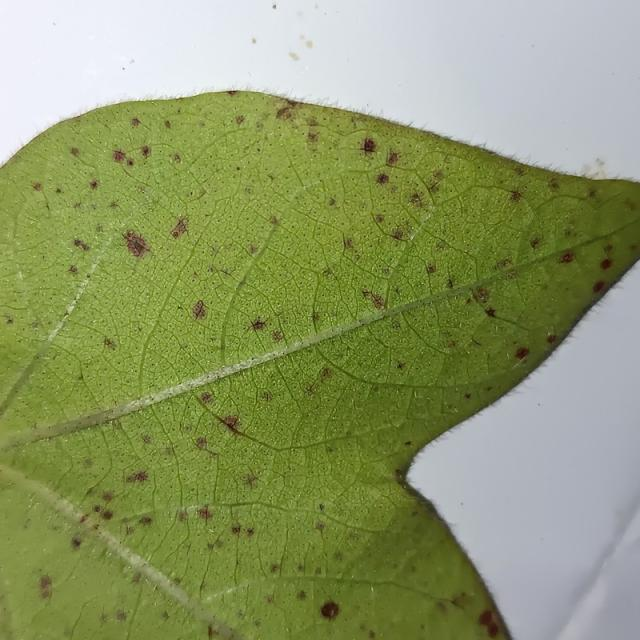Bacterial_Blight: (275, 124, 313, 194), (176, 291, 217, 325), (27, 181, 52, 218), (122, 230, 151, 259), (478, 609, 501, 638), (192, 435, 220, 458), (312, 362, 337, 385), (361, 289, 386, 310), (425, 171, 446, 194), (599, 244, 615, 273), (170, 216, 190, 239), (217, 414, 240, 434), (207, 264, 237, 279), (440, 397, 462, 416), (320, 601, 340, 621), (38, 574, 53, 599), (125, 469, 149, 484), (247, 316, 268, 332), (275, 105, 296, 121), (359, 137, 377, 155), (320, 266, 339, 283), (242, 472, 260, 489), (450, 593, 467, 609), (408, 192, 424, 208), (390, 227, 407, 242), (73, 238, 91, 252), (306, 130, 320, 147), (557, 251, 575, 264), (197, 506, 213, 520), (191, 186, 207, 200), (65, 261, 80, 275), (102, 337, 117, 351), (386, 151, 400, 166), (304, 383, 318, 397), (622, 197, 636, 211), (112, 150, 127, 163), (514, 347, 529, 360), (479, 610, 492, 625), (496, 258, 512, 270), (529, 236, 542, 250), (343, 237, 356, 251), (375, 172, 389, 185), (271, 329, 284, 342), (101, 491, 114, 504), (200, 391, 213, 404), (548, 178, 561, 191), (593, 280, 606, 293), (509, 190, 523, 202), (100, 508, 114, 520), (130, 572, 142, 585), (196, 437, 208, 450), (115, 610, 128, 622), (435, 601, 447, 614), (140, 145, 151, 158), (71, 536, 82, 549), (139, 516, 153, 526), (207, 540, 221, 550), (248, 243, 259, 255), (484, 307, 496, 318), (435, 239, 447, 250), (348, 530, 360, 541), (394, 468, 405, 480), (124, 525, 135, 536), (29, 320, 41, 330), (261, 392, 273, 402), (2, 315, 14, 325), (207, 624, 215, 638), (141, 434, 152, 444), (425, 264, 436, 274), (81, 458, 92, 468), (374, 214, 385, 224), (130, 117, 141, 127), (587, 189, 598, 199), (178, 510, 188, 521), (506, 270, 517, 280), (160, 610, 170, 621), (89, 180, 99, 190), (269, 215, 279, 225), (235, 115, 245, 125), (315, 522, 325, 532), (297, 590, 307, 600), (546, 334, 556, 344), (99, 613, 109, 623), (325, 443, 335, 453), (31, 182, 42, 191), (446, 278, 455, 289), (108, 201, 120, 209), (70, 147, 80, 156), (231, 525, 241, 534), (266, 594, 275, 604), (270, 564, 280, 573), (564, 228, 573, 238), (164, 446, 173, 456), (604, 244, 614, 253), (226, 90, 238, 97), (328, 198, 337, 207), (312, 312, 320, 322), (396, 362, 405, 370), (164, 120, 172, 129), (246, 527, 254, 536), (184, 425, 193, 433), (305, 40, 313, 49), (126, 159, 134, 167), (55, 187, 63, 194), (315, 567, 322, 575), (297, 564, 305, 571), (254, 620, 261, 628), (319, 503, 325, 512), (404, 441, 412, 447), (464, 393, 471, 399), (635, 244, 640, 252), (368, 635, 376, 640), (272, 3, 277, 10), (251, 38, 256, 44), (315, 3, 319, 10)
Cotton: (0, 91, 639, 639)
